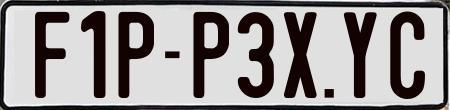1: (79, 11, 109, 99)
3: (238, 12, 278, 104)
C: (387, 11, 428, 100)
F: (34, 10, 73, 100)
P: (192, 11, 234, 98), (116, 11, 158, 97)
X: (282, 12, 320, 104)
Y: (342, 9, 381, 98)
